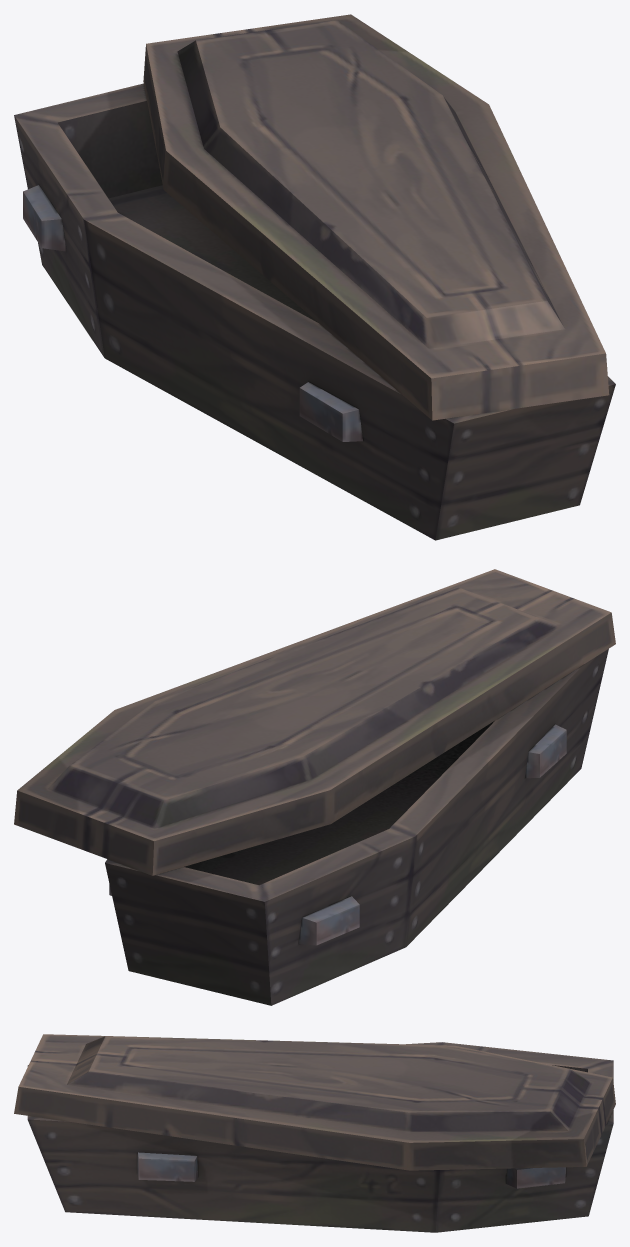
File: CoffinChest.fbx
3 renders of one model, top to bottom at view 1: azimuth 30°, elevation 25°; view 2: azimuth 150°, elevation 25°; view 3: azimuth 270°, elevation 25°, orthographic. The views are drawn at different scales.
Parts seen in each view (by area): view 1: cover, coffin; view 2: cover, coffin; view 3: cover, coffin.
Part boxes in pixels (bbox=[...]): cover: bbox=[143, 14, 609, 420]; coffin: bbox=[14, 83, 615, 540]; cover: bbox=[14, 569, 615, 875]; coffin: bbox=[105, 649, 608, 1005]; cover: bbox=[14, 1034, 615, 1170]; coffin: bbox=[27, 1042, 613, 1232].
Size of the model in its own units: 73.24 by 36.48 by 145.
1 material, 1 textured.
